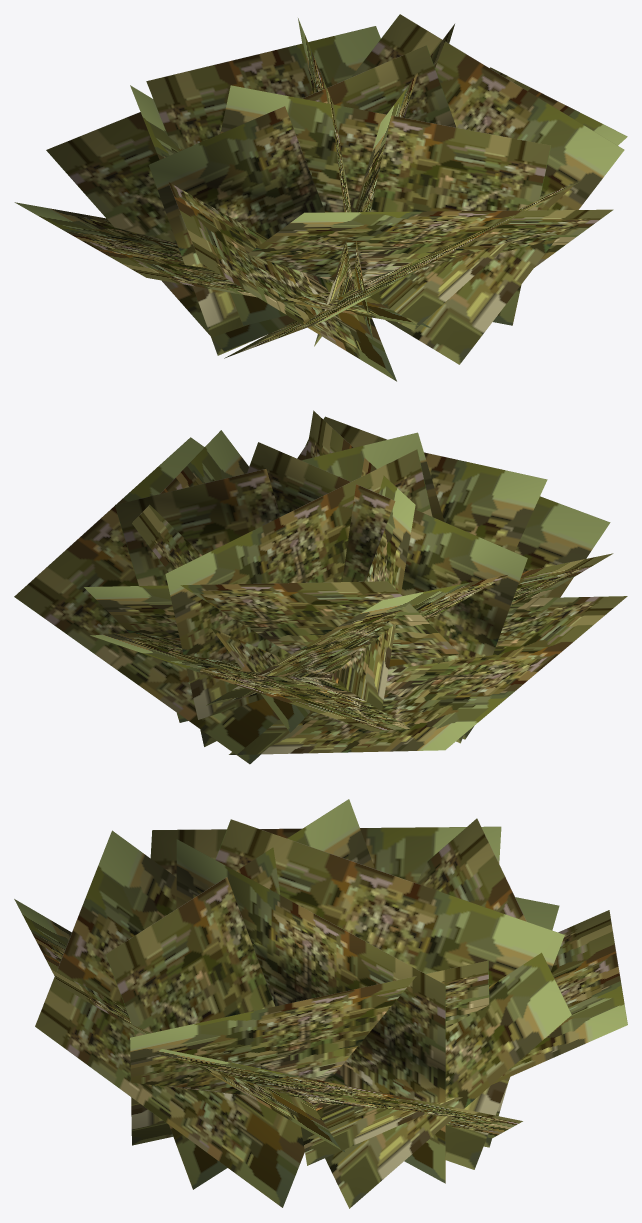
3 renders of one model, top to bottom at view 1: azimuth 30°, elevation 25°; view 2: azimuth 150°, elevation 25°; view 3: azimuth 270°, elevation 25°, orthographic. The views are drawn at different scales.
Visible parts, largest first — view 1: _gb01b; view 2: _gb01b; view 3: _gb01b.
Boxes of the visible parts, x1,y1,x2,y2 form: _gb01b: [14, 14, 627, 381]; _gb01b: [14, 410, 627, 764]; _gb01b: [14, 799, 627, 1208].
Bounding box in the file's own units: 5.55 × 2.82 × 5.34.
1 material, 1 textured.
